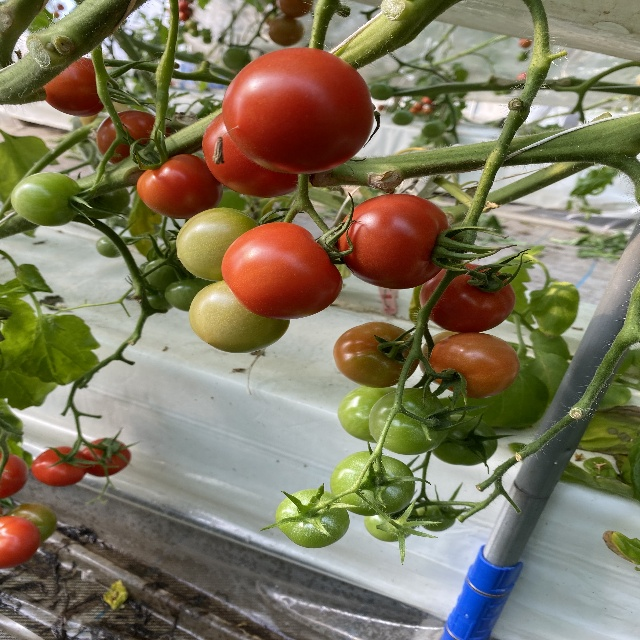l_fully_ripened: (221, 47, 375, 175), (221, 222, 343, 320), (336, 193, 456, 290), (201, 114, 299, 198), (418, 263, 515, 333), (136, 154, 224, 219), (96, 111, 172, 165), (43, 57, 104, 117), (30, 447, 89, 486), (1, 516, 42, 568), (80, 438, 131, 477), (0, 451, 30, 499)
l_green: (189, 282, 291, 355), (176, 207, 261, 282), (368, 388, 453, 454), (330, 451, 414, 517), (275, 488, 351, 549), (10, 172, 82, 226), (430, 414, 499, 466), (337, 385, 398, 443), (363, 503, 421, 542), (5, 503, 58, 543), (78, 188, 132, 220), (165, 279, 211, 312), (416, 499, 457, 531), (145, 259, 189, 288), (97, 237, 121, 258)
l_half_ripened: (426, 332, 519, 399), (333, 322, 423, 388)
